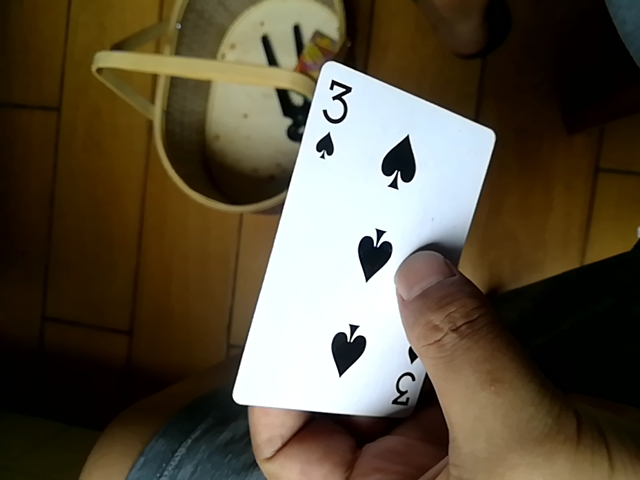ht 3: (237, 54, 490, 421)
